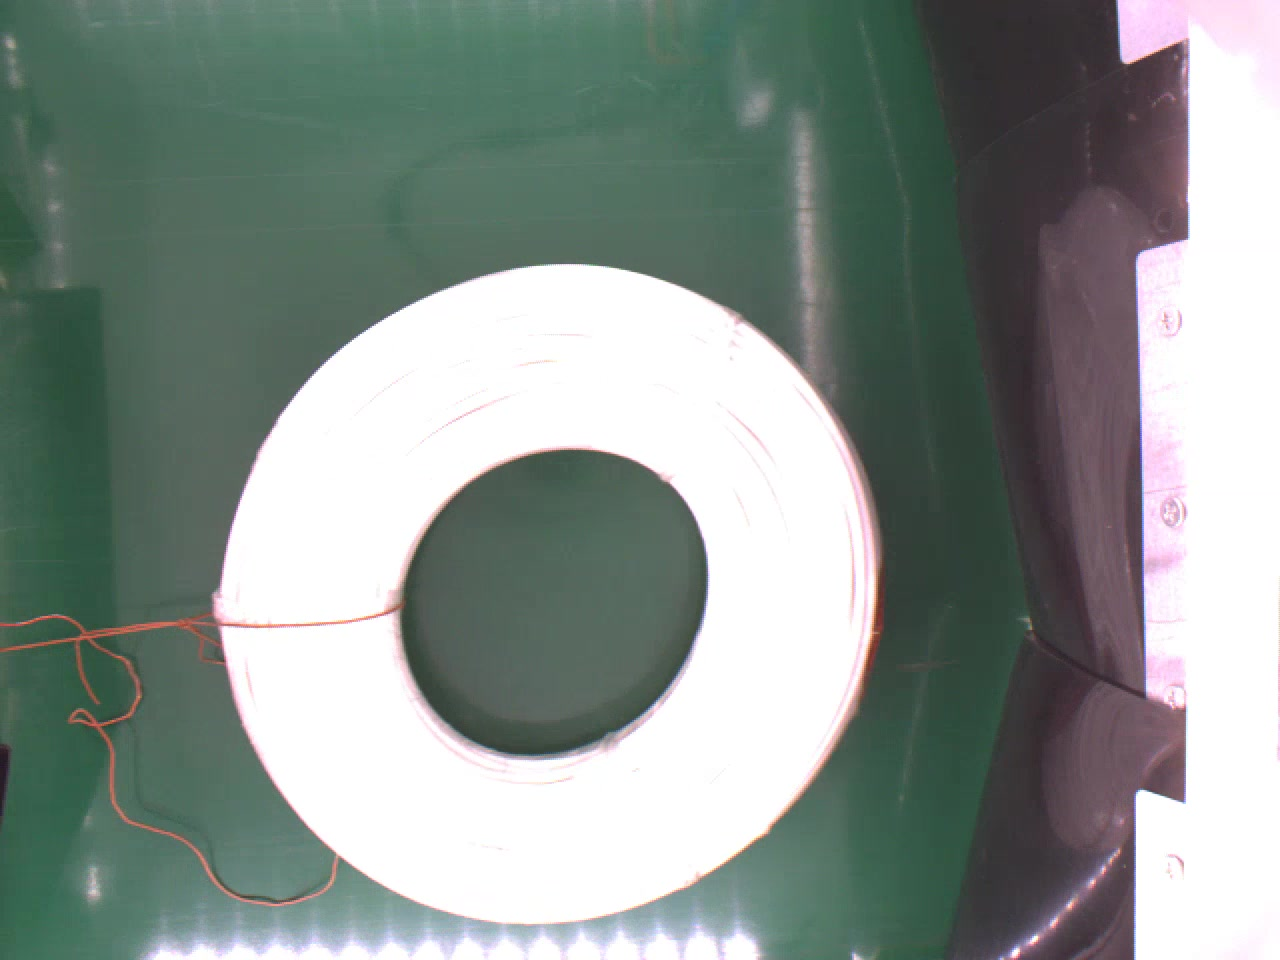white: (207, 259, 885, 930)
